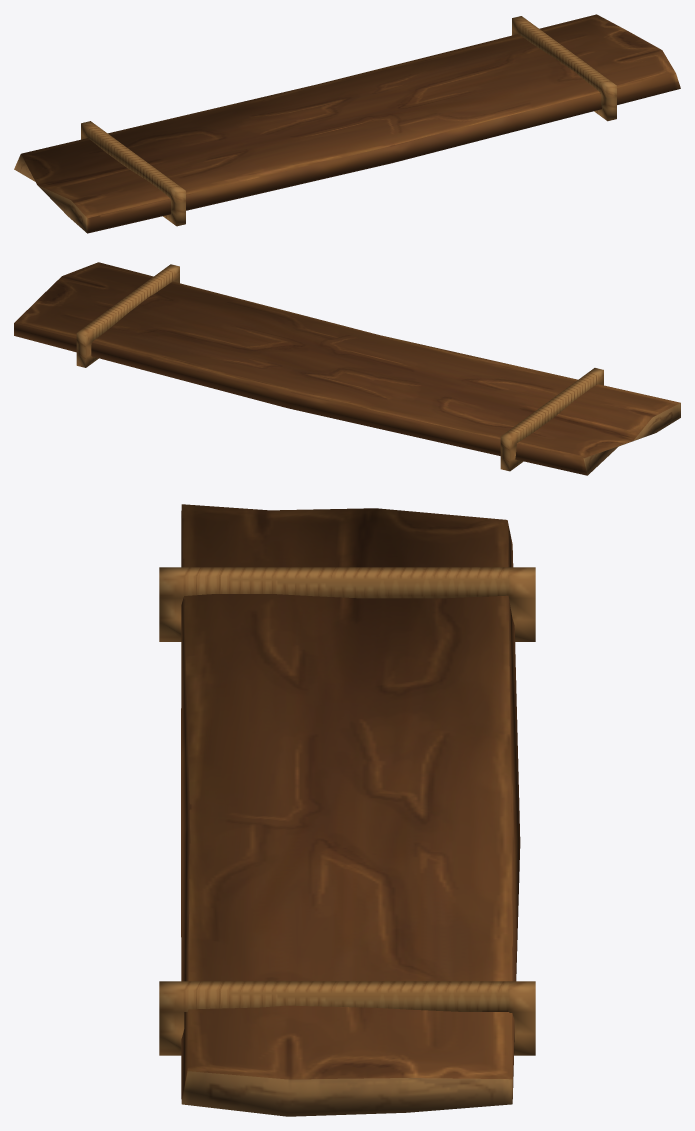
File: Plank.fbx
3 renders of one model, top to bottom at view 1: azimuth 30°, elevation 25°; view 2: azimuth 150°, elevation 25°; view 3: azimuth 270°, elevation 25°, orthographic. The views are drawn at different scales.
Parts seen in each view (by area): view 1: Cube.002; view 2: Cube.002; view 3: Cube.002.
Part boxes in pixels (x1=…): Cube.002: x1=14, y1=14, x2=680, y2=233; Cube.002: x1=14, y1=262, x2=680, y2=475; Cube.002: x1=159, y1=504, x2=535, y2=1116.
Size of the model in its own units: 9.94 by 0.5203 by 2.71.
